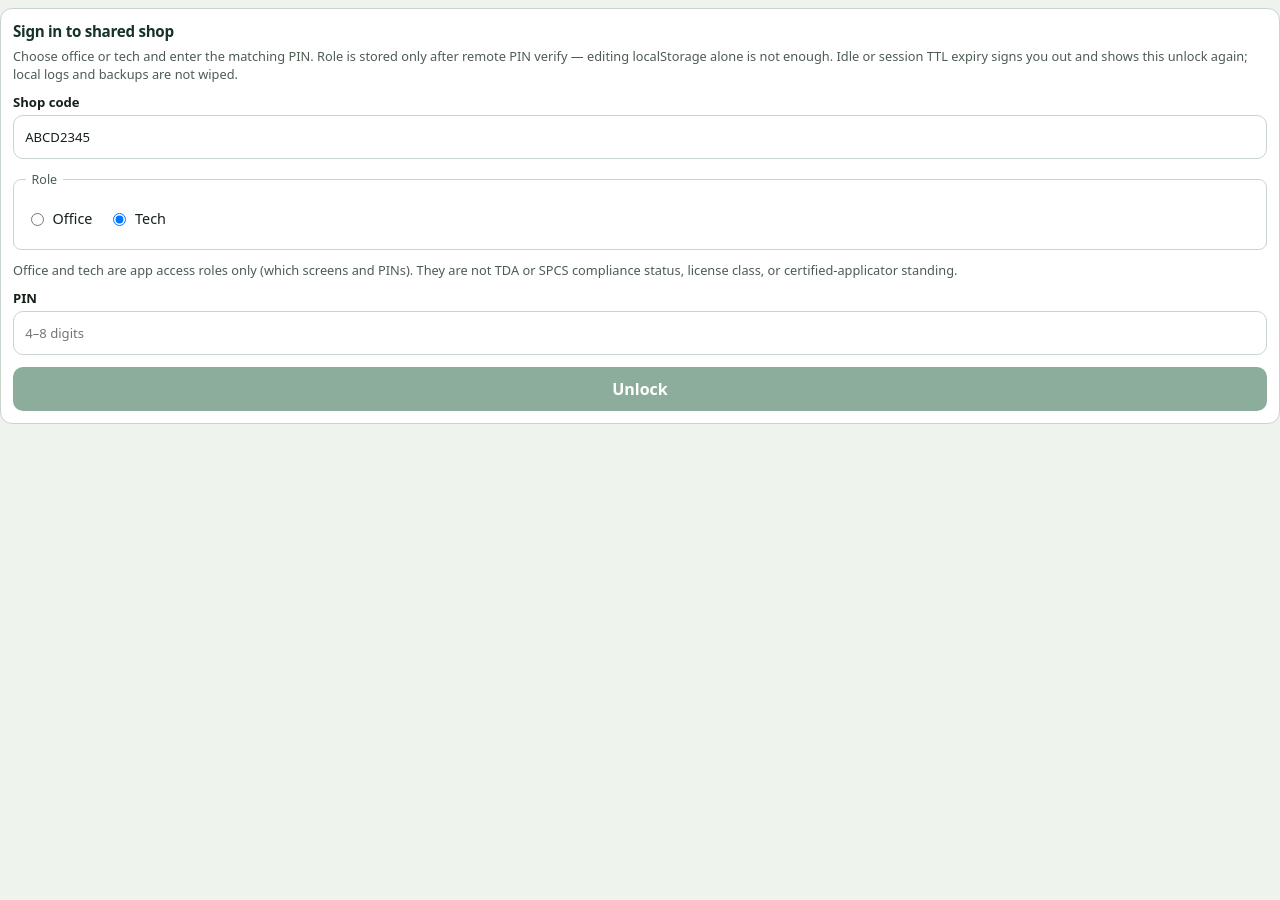
Test: ShopSessionGate: pins-missing bootstrap › a pins-missing failure reveals the bootstrap panel alongside the error
Type "1234" into the password field named "Role PIN".
click(640, 334); type("1234")  # box [13,312,1267,356]
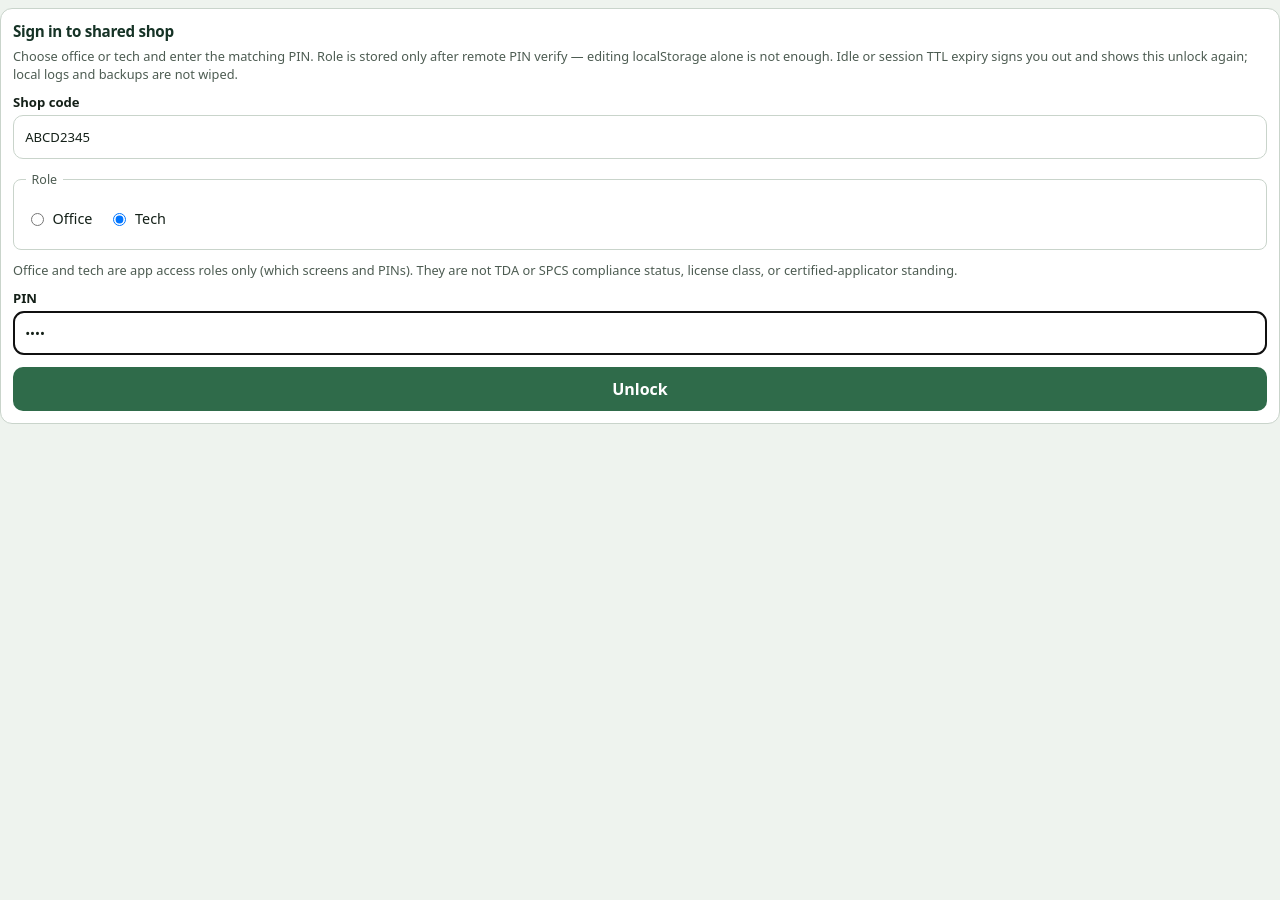
Click the button "Unlock".
click(640, 389)  # box [13,367,1267,411]
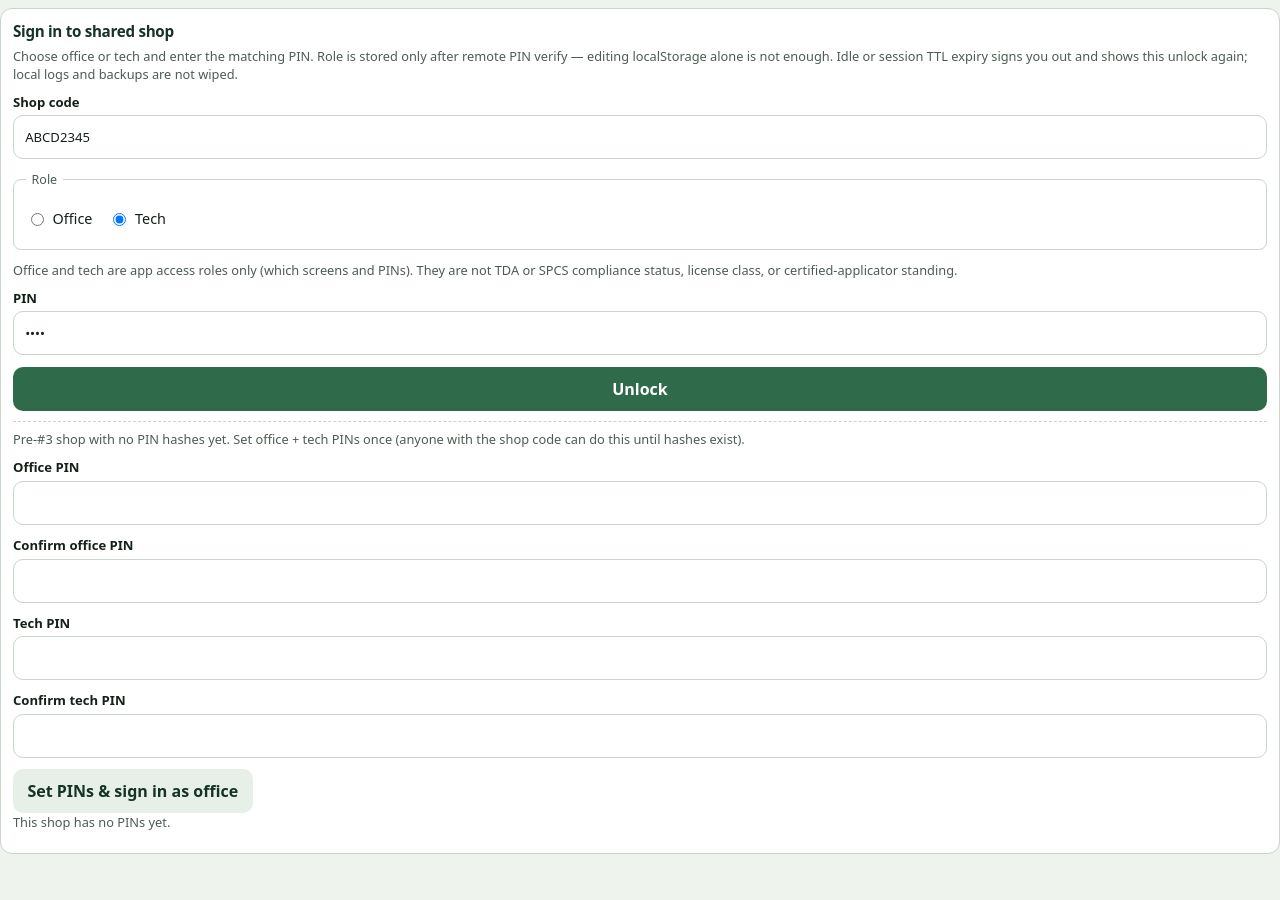
Now the message reads "This shop has no PINs yet.", box [13,813,170,831]
Now the text "Pre-#3 shop with no PIN hashes yet" is shown, box [13,430,745,448]
